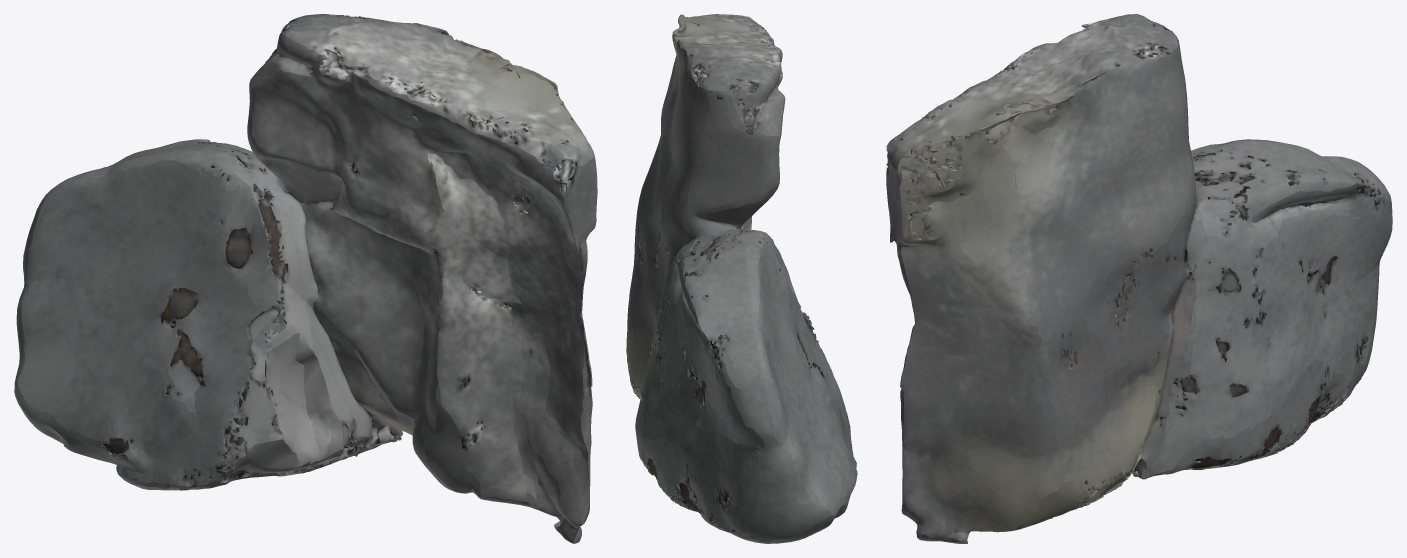
The picture shows the model from 3 angles, left to right: view 1: azimuth 30°, elevation 25°; view 2: azimuth 150°, elevation 25°; view 3: azimuth 270°, elevation 25°; orthographic projection. The views are drawn at different scales.
Parts seen in each view (by area): view 1: world; view 2: world; view 3: world.
Part boxes in pixels (x1,y1,x2,y2): world: (14,14,597,543); world: (626,14,857,543); world: (886,14,1392,543).
Size of the model in its own units: 0.8 by 0.9625 by 0.9782.
1 material, 1 textured.
